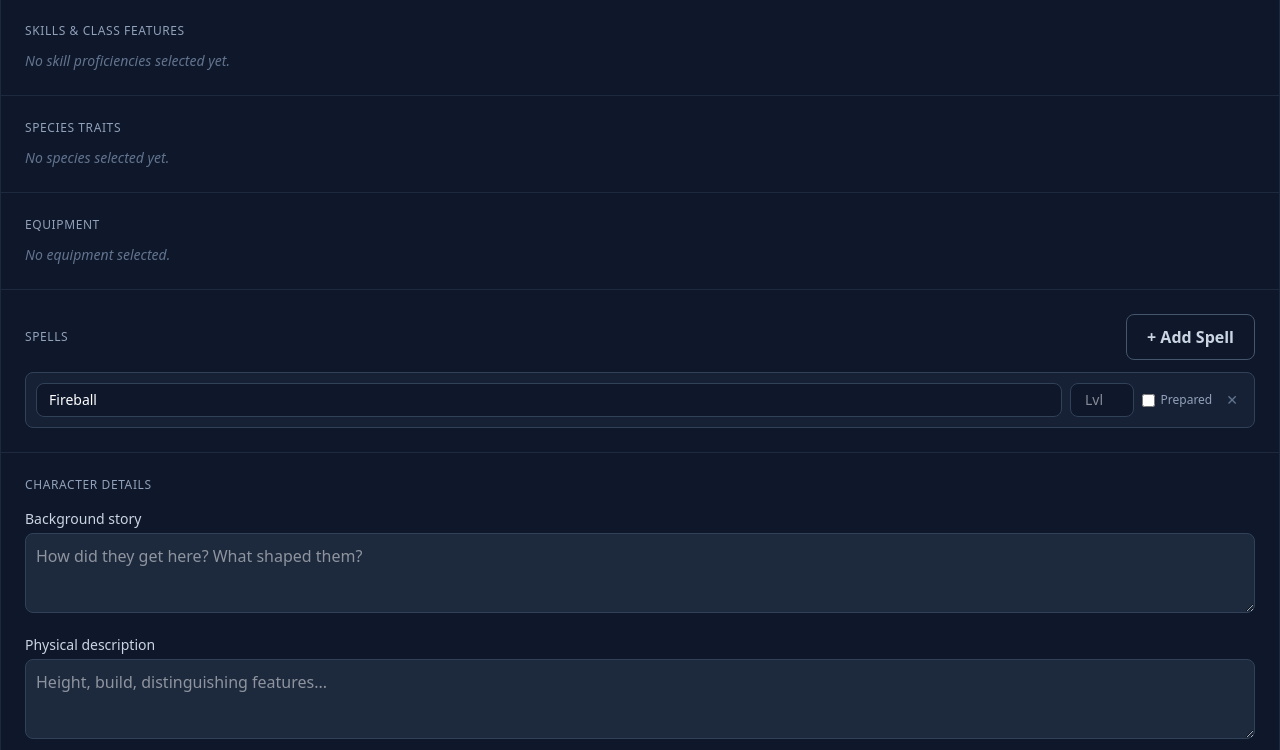
Test case: Step7Sheet — spells › removing the last spell row shows the empty state again
(page scrolled)
Click the button named "Remove Fireball": (1232, 400) x1=1220 y1=386 x2=1244 y2=414
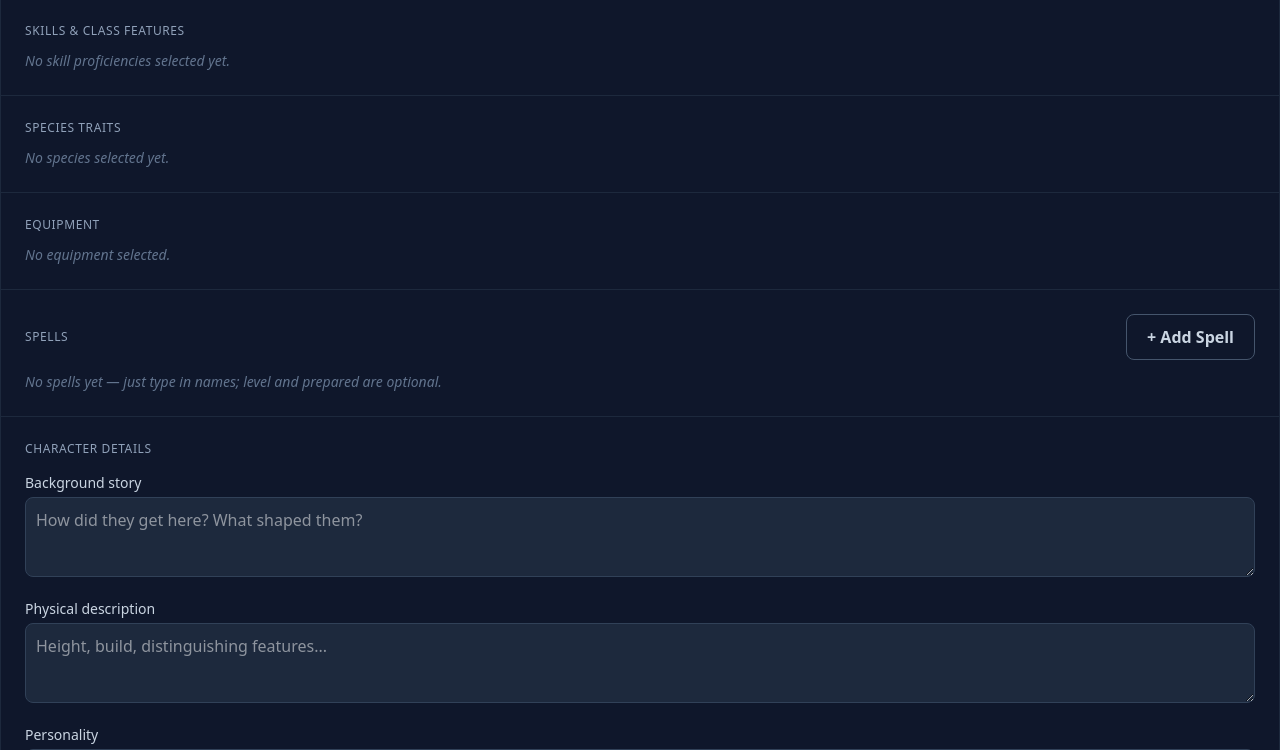
Expected: the text "No spells yet" is shown, x1=25 y1=372 x2=442 y2=391
